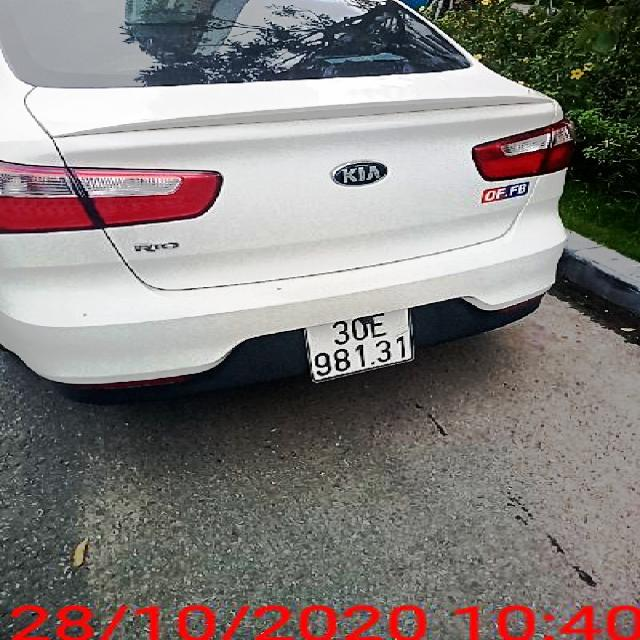license_plate: (305, 308, 412, 384)
